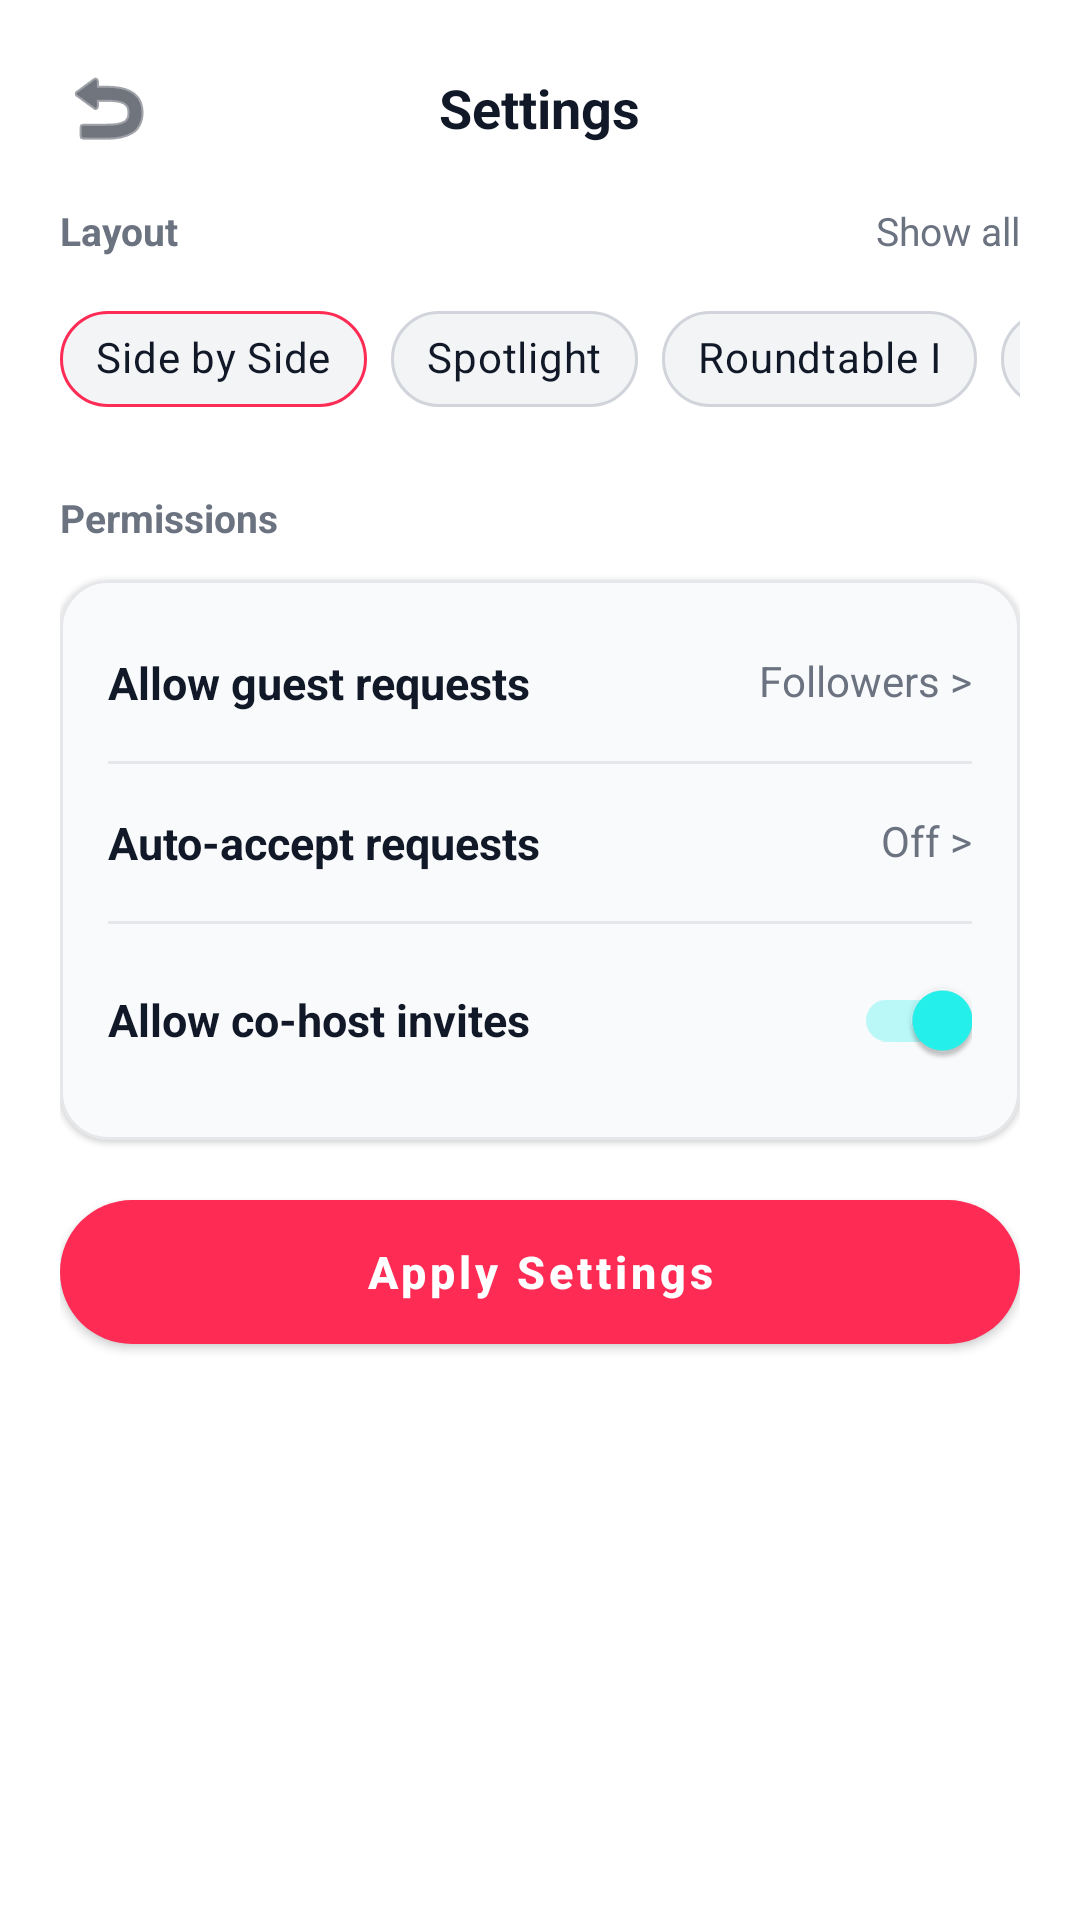

Screen size 1080px×1920px. Icon name, then its box in pixels as (x1, y1, x2, y2):
Back: (75, 77, 144, 140)
